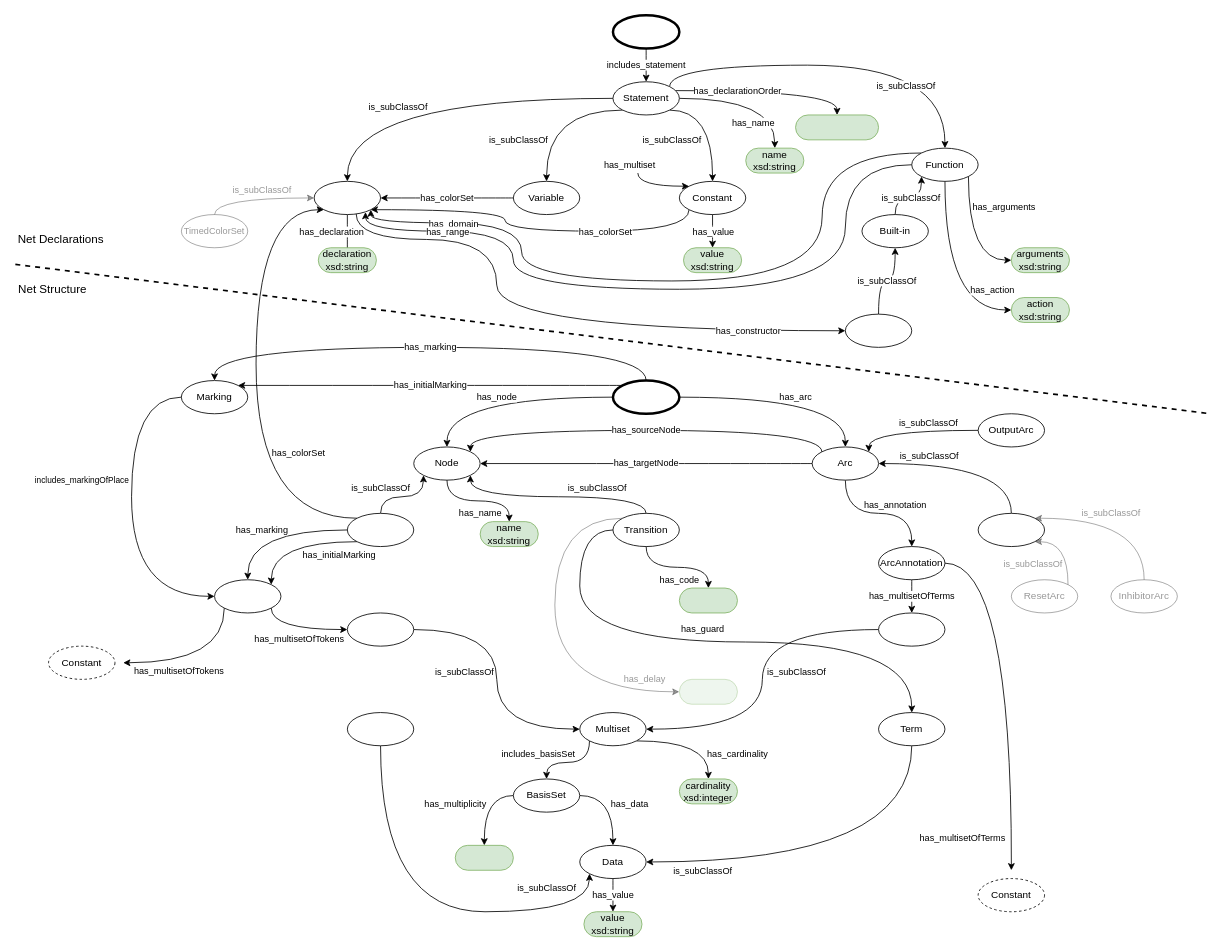
The diagram is 1226 pixels wide and 951 high, and some of its shapes have lost their labels. Each missing label, with the centre of its shape:
code xsd:string: point 708,600
ColorSet: point 347,198
Constructor: point 878,330
CPN: point 645,397
declarationOrder xsd:integer: point 837,127
Declarations: point 645,31
delay xsd:integer: point 708,691
InputArc: point 1011,530
MarkingOfPlace: point 247,596
multiplicity xsd:integer: point 483,857
MultisetOfTerms: point 911,629
MultisetOfTokens: point 380,629
Place: point 380,530
Token: point 380,729
